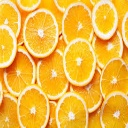orange: (22, 6, 58, 58), (36, 51, 70, 100), (16, 83, 49, 128), (55, 91, 89, 128)
